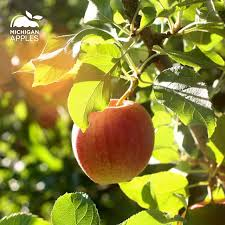apple: (72, 106, 157, 189)
